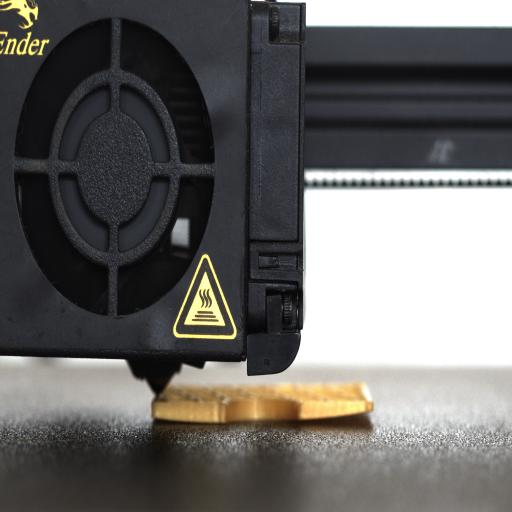warp: (298, 397, 377, 427), (148, 405, 199, 427)
